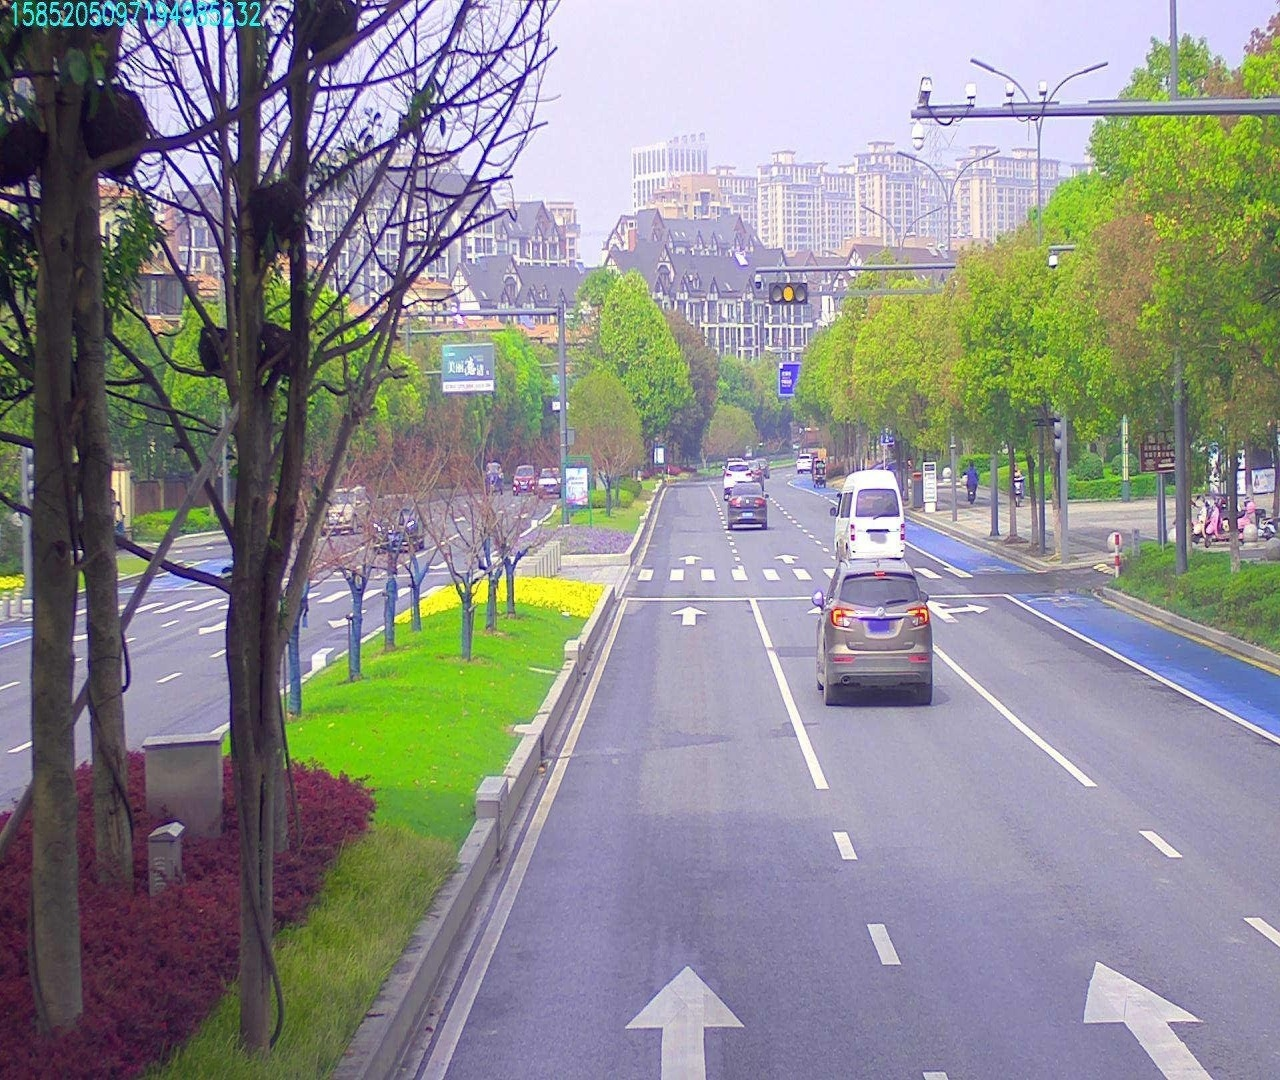yellow: (769, 281, 812, 305)
